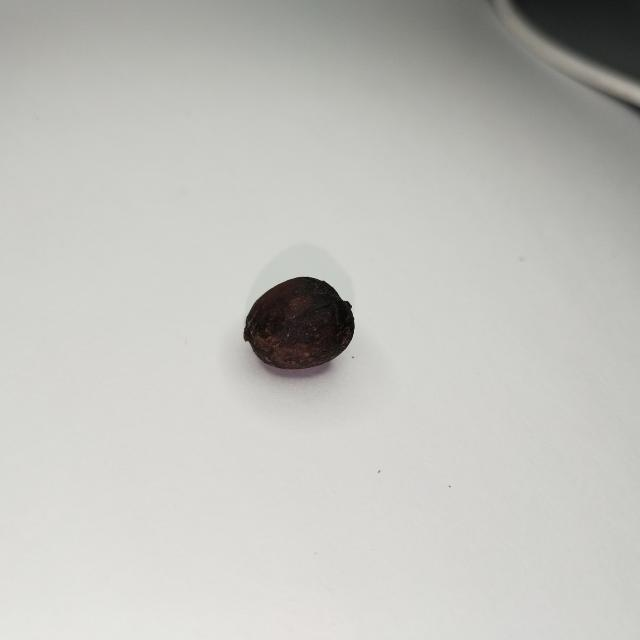Danado: (244, 278, 356, 372)
